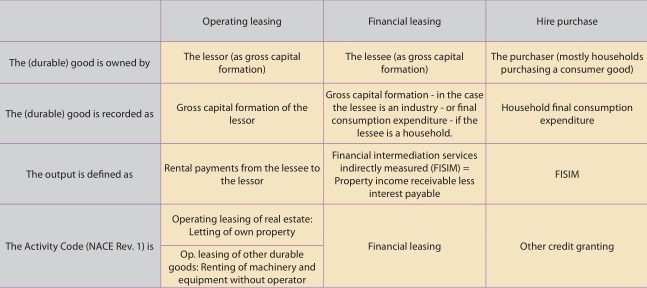column: (325, 1, 484, 288), (164, 1, 321, 288), (3, 1, 155, 288), (490, 1, 643, 284)
row: (1, 214, 647, 285), (1, 150, 647, 199), (1, 91, 646, 138), (1, 51, 647, 76), (1, 15, 647, 28)
